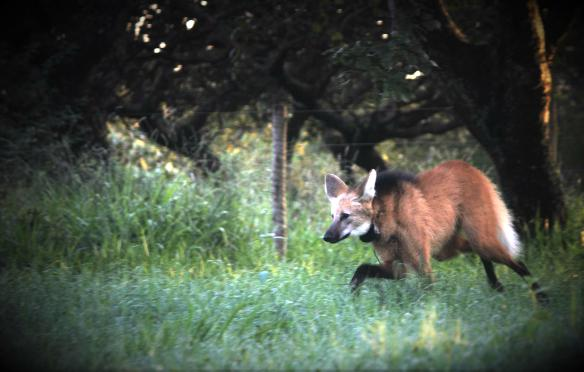LoboGuara: (321, 155, 551, 316)
